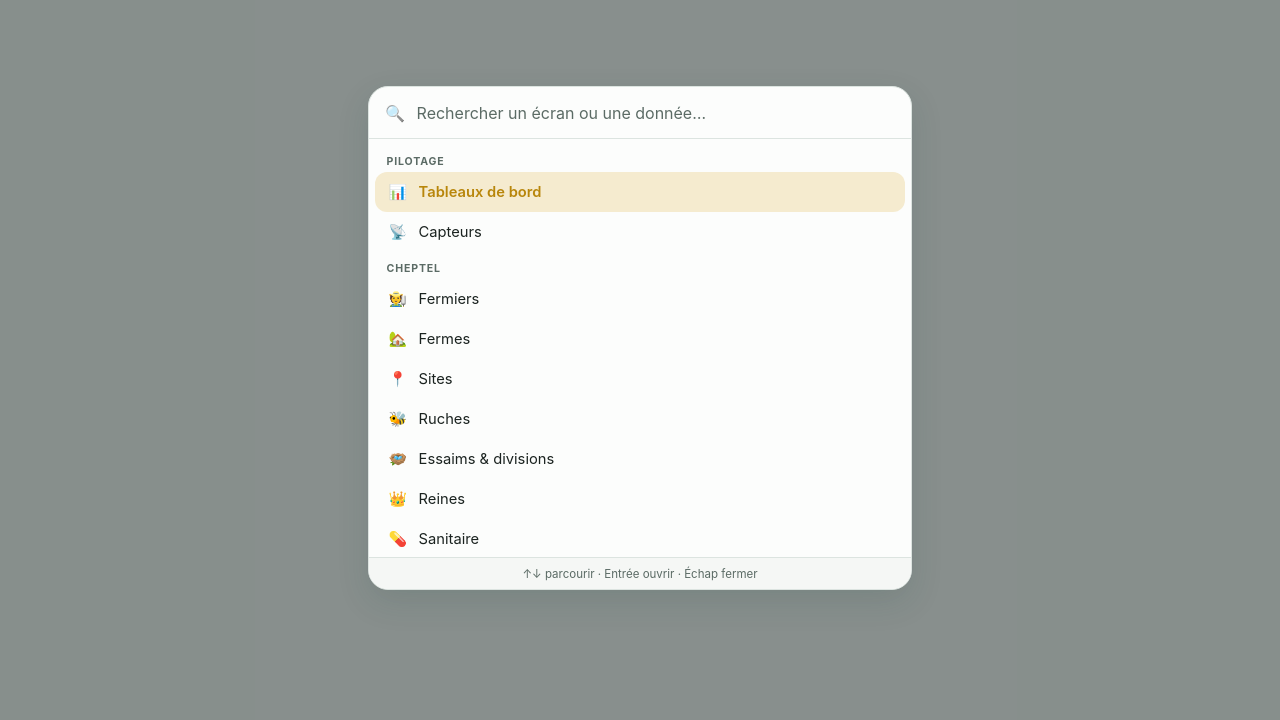
palette de commandes › sort une famille entière quand on tape son nom
The image size is (1280, 720).
In the dropdown: [655, 113] box x1=415 y1=102 x2=895 y2=124, type "terrain"
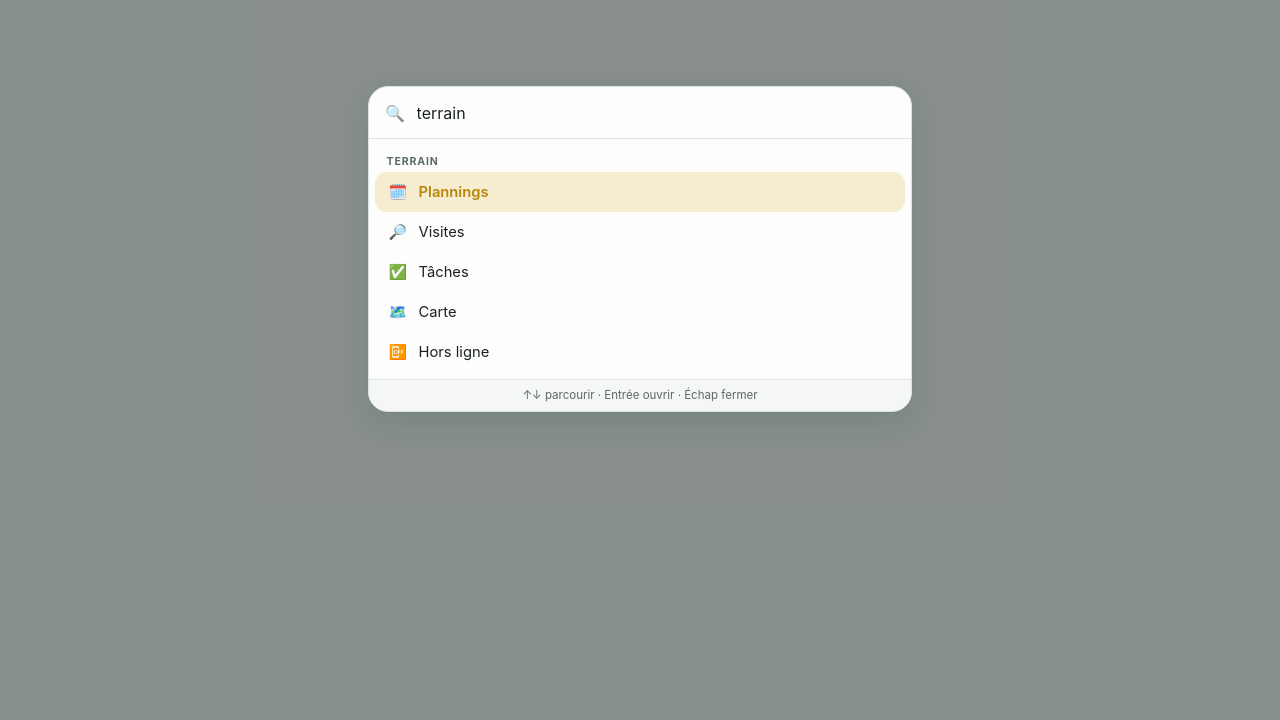
Expected: the number of options is 5, x1=375 y1=172 x2=905 y2=212; x1=375 y1=212 x2=905 y2=252; x1=375 y1=252 x2=905 y2=292; x1=375 y1=292 x2=905 y2=332; x1=375 y1=332 x2=905 y2=372
